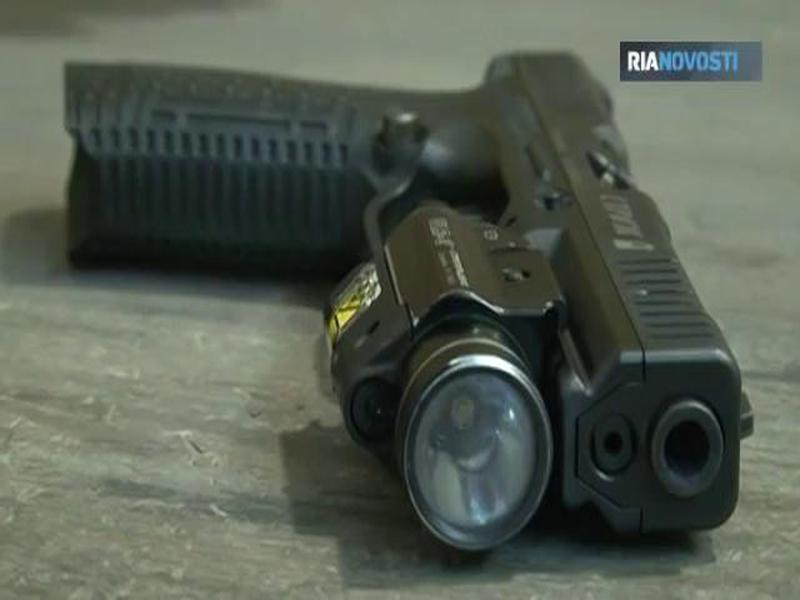Pistola: (42, 26, 767, 545)
